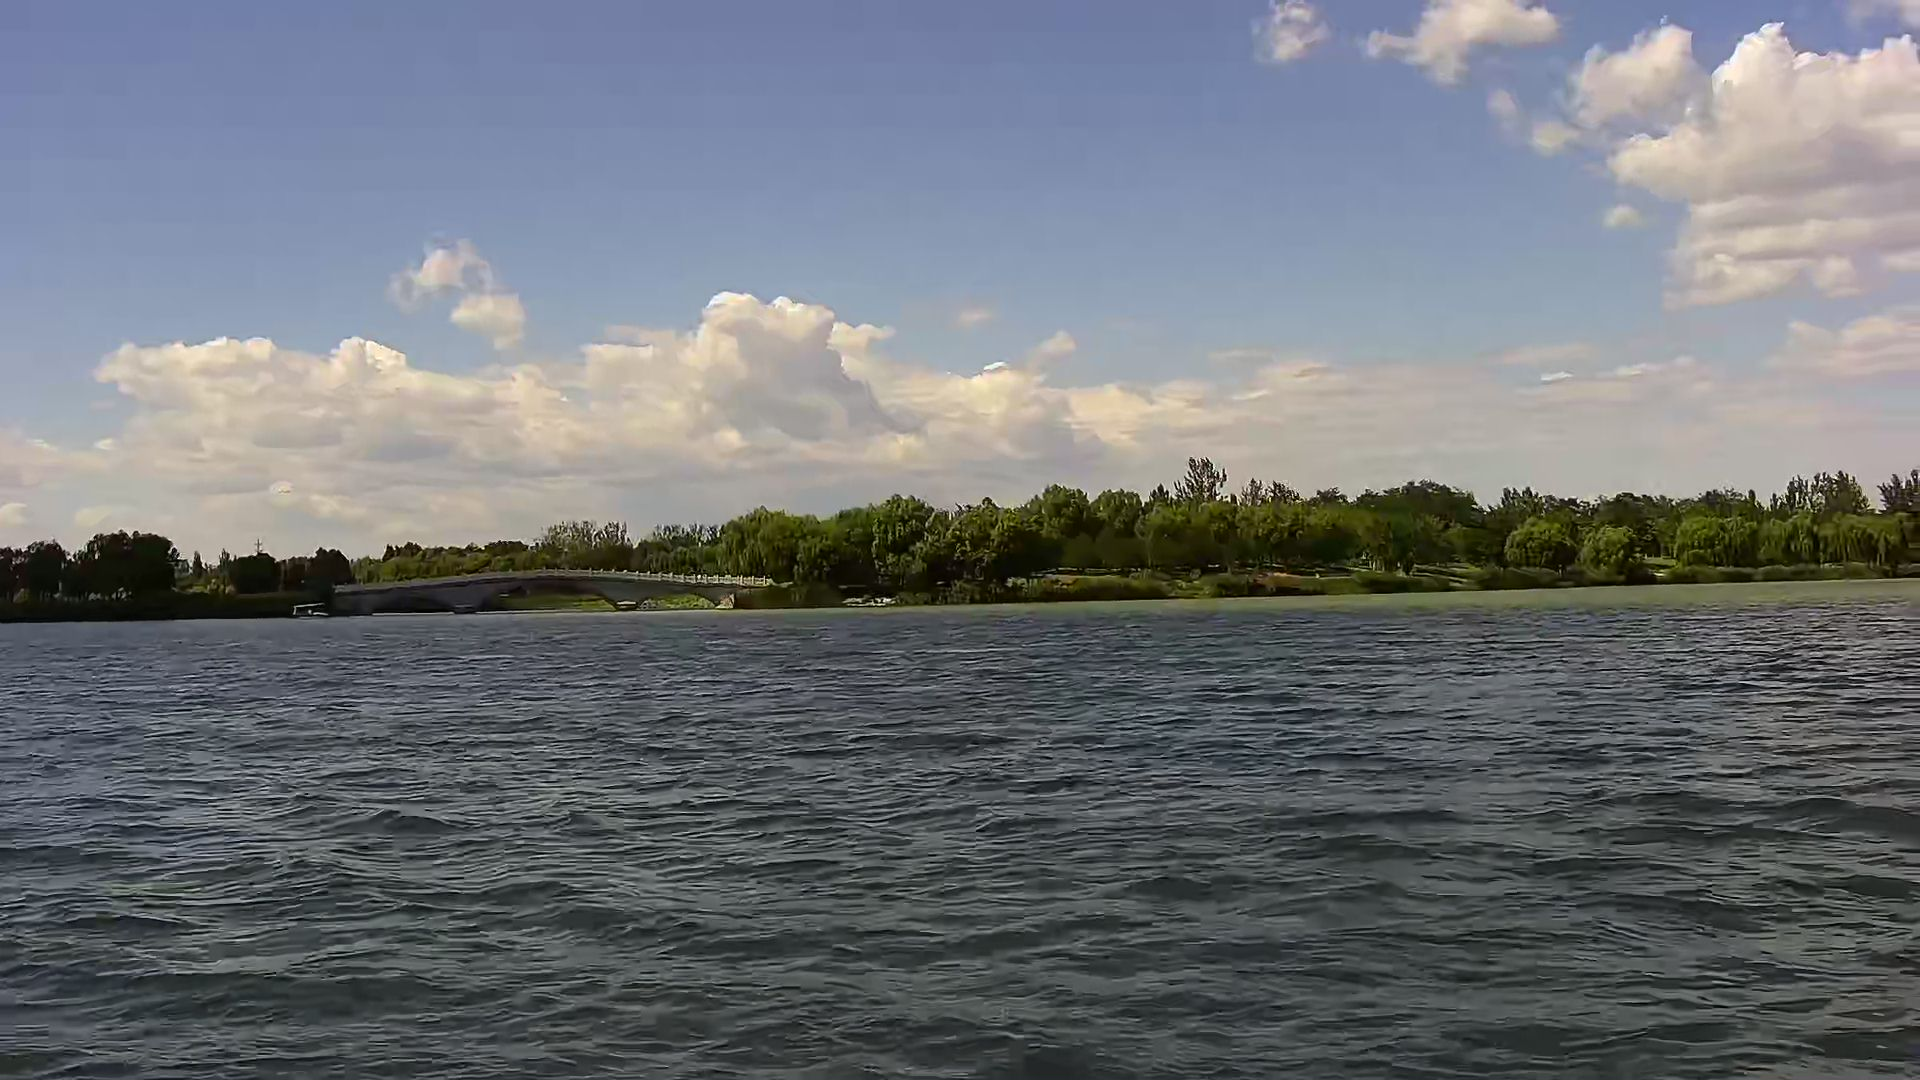bridge: (334, 564, 771, 613)
